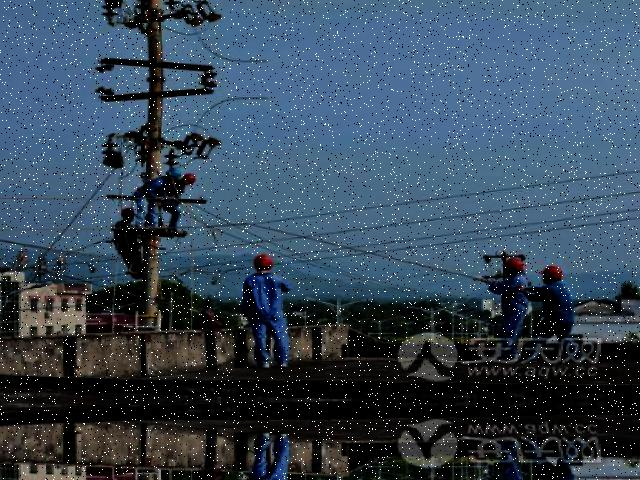Helmet: (535, 262, 563, 284), (246, 253, 278, 272), (500, 254, 522, 279), (161, 164, 181, 179), (179, 172, 196, 186)
